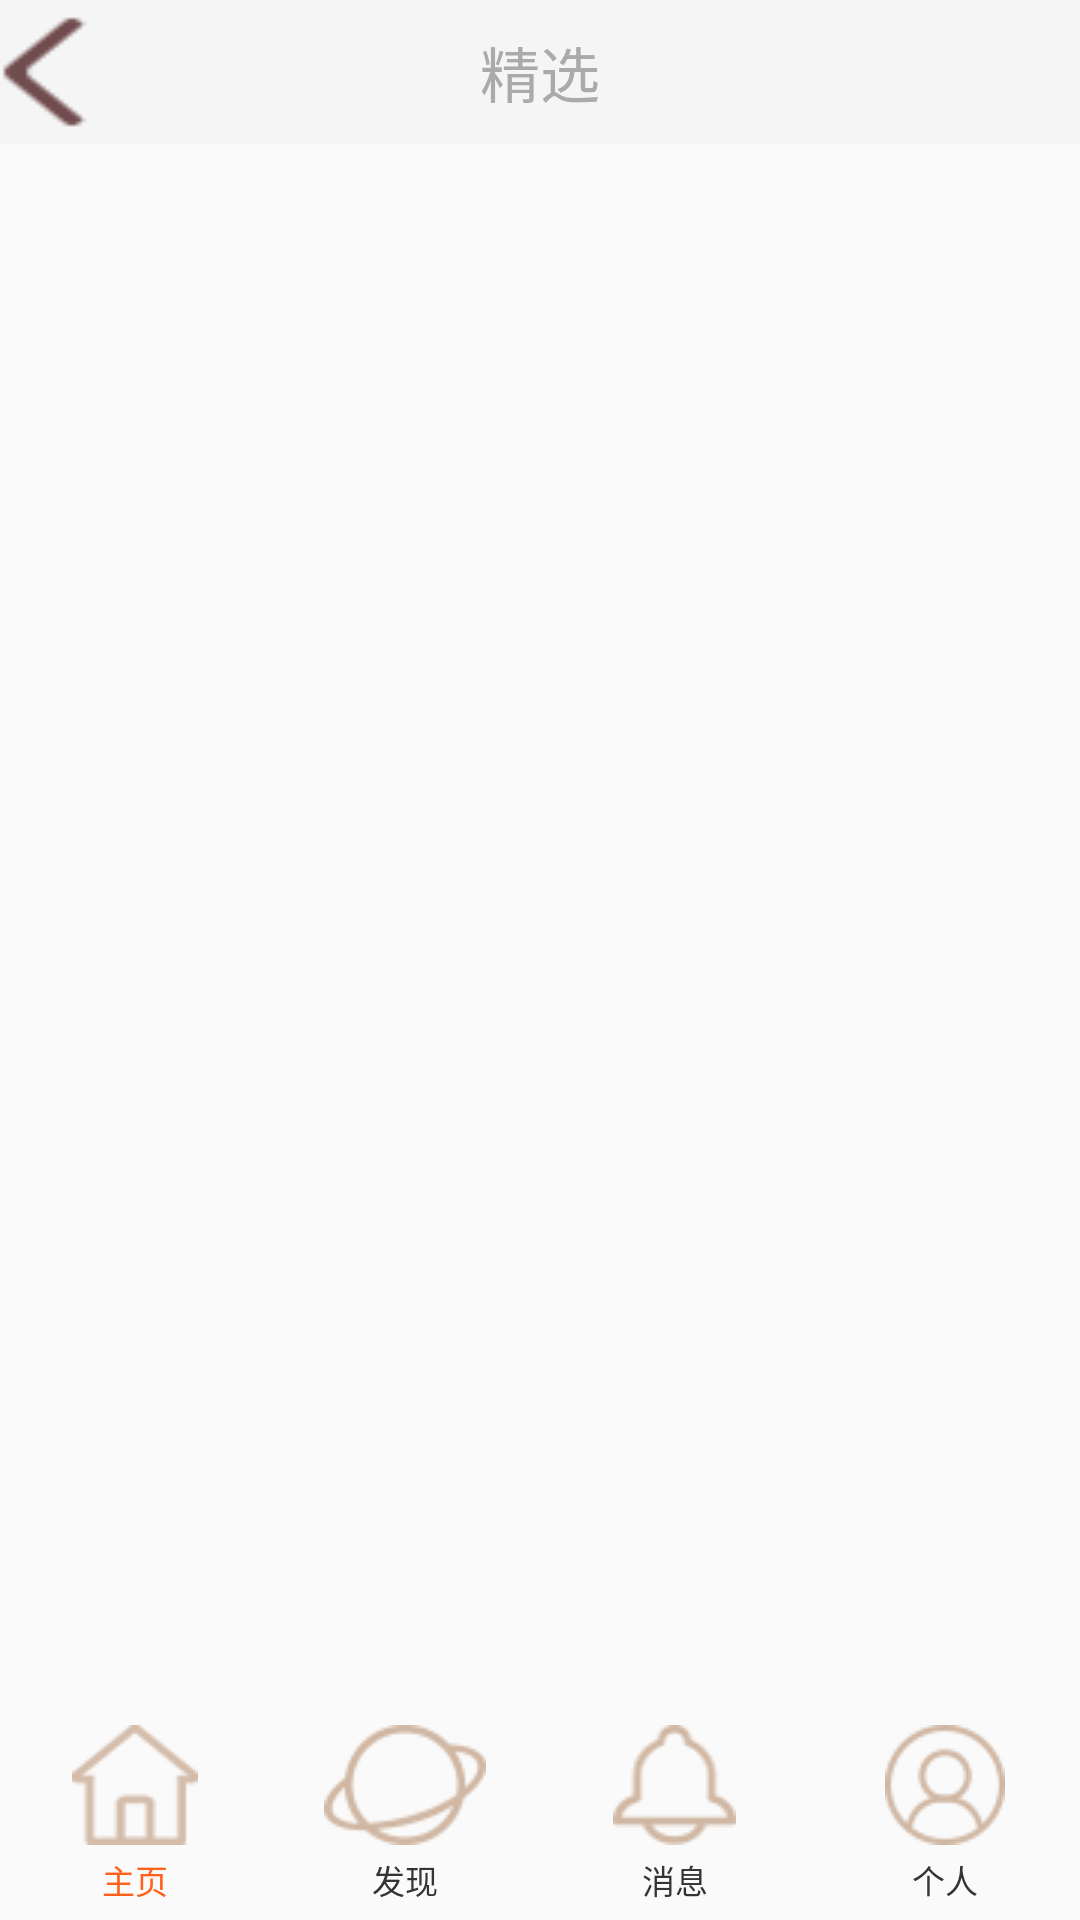

Icons on this 1080 × 1920 Android screen, each with the point to tap as point (x, y):
map return: point (44, 72)
